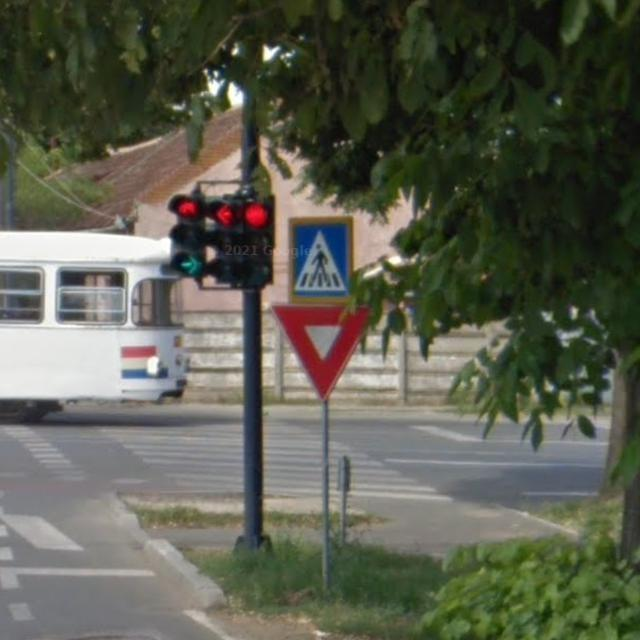info_crosswalk: (287, 218, 354, 301)
prio_give_way: (262, 301, 372, 402)
